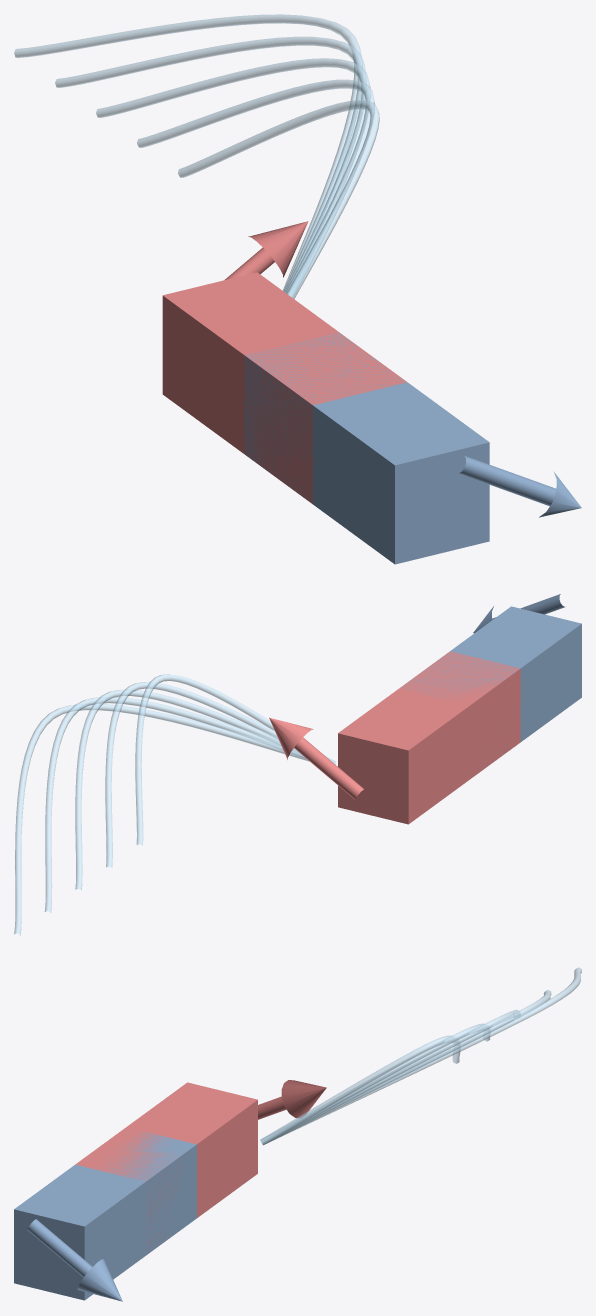
Rendered from magnet.glb.
3 renders of one model, top to bottom at view 1: azimuth 30°, elevation 25°; view 2: azimuth 150°, elevation 25°; view 3: azimuth 330°, elevation 25°, orthographic. The views are drawn at different scales.
Visible parts, largest first — view 1: magnet_south, magnet_north, field_line_5, field_line_4, field_line_3, field_line_2, field_line_1, field_direction_south, field_direction_north; view 2: magnet_north, magnet_south, field_line_5, field_line_4, field_line_3, field_line_2, field_line_1, field_direction_north, field_direction_south; view 3: magnet_south, magnet_north, field_direction_south, field_line_5, field_line_2, field_line_4, field_line_1, field_direction_north, field_line_3.
Part boxes in pixels (left/top/right/bottom): magnet_south: left=244, top=332, right=489, bottom=564; magnet_north: left=162, top=272, right=406, bottom=504; field_line_5: left=14, top=14, right=362, bottom=291; field_line_4: left=55, top=36, right=366, bottom=291; field_line_3: left=96, top=58, right=370, bottom=292; field_line_2: left=137, top=79, right=374, bottom=297; field_line_1: left=178, top=100, right=379, bottom=298; field_direction_south: left=458, top=455, right=581, bottom=517; field_direction_north: left=224, top=221, right=308, bottom=280; magnet_north: left=338, top=651, right=520, bottom=824; magnet_south: left=400, top=606, right=581, bottom=768; field_line_5: left=14, top=704, right=335, bottom=935; field_line_4: left=44, top=697, right=335, bottom=912; field_line_3: left=75, top=689, right=295, bottom=889; field_line_2: left=105, top=682, right=334, bottom=867; field_line_1: left=135, top=674, right=335, bottom=845; field_direction_north: left=269, top=717, right=363, bottom=799; field_direction_south: left=473, top=594, right=564, bottom=633; magnet_south: left=14, top=1129, right=196, bottom=1300; magnet_north: left=75, top=1082, right=257, bottom=1247; field_direction_south: left=27, top=1219, right=122, bottom=1301; field_line_5: left=267, top=967, right=581, bottom=1143; field_line_2: left=261, top=1023, right=490, bottom=1144; field_line_4: left=266, top=990, right=551, bottom=1143; field_line_1: left=260, top=1035, right=460, bottom=1144; field_direction_north: left=258, top=1080, right=326, bottom=1119; field_line_3: left=264, top=1009, right=520, bottom=1144.
Size of the model in its own units: 0.602 by 0.306 by 1.88.
